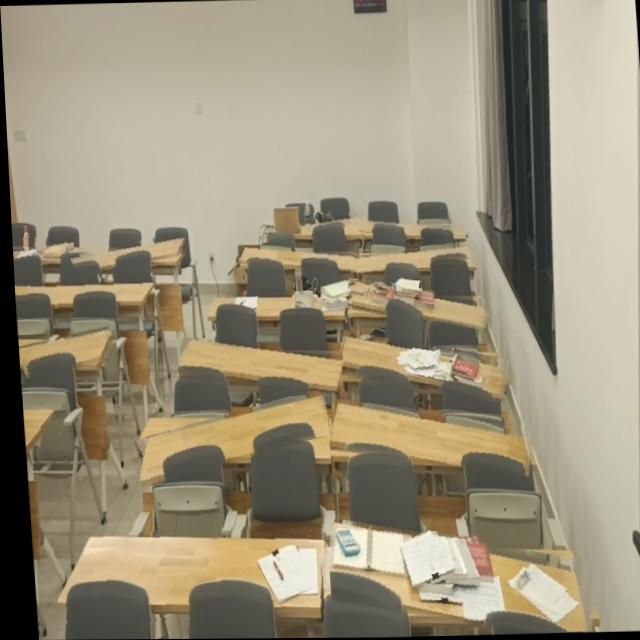Non-empty: (318, 518, 579, 634), (51, 534, 319, 614), (335, 332, 500, 402), (342, 280, 481, 330), (204, 290, 348, 319), (259, 212, 361, 238), (10, 236, 68, 258)
empty: (134, 396, 325, 478), (325, 400, 522, 476), (175, 338, 338, 393), (13, 280, 150, 308), (15, 329, 105, 371), (68, 235, 181, 267), (352, 244, 471, 273), (234, 246, 358, 272), (357, 220, 462, 239), (18, 405, 46, 450)
